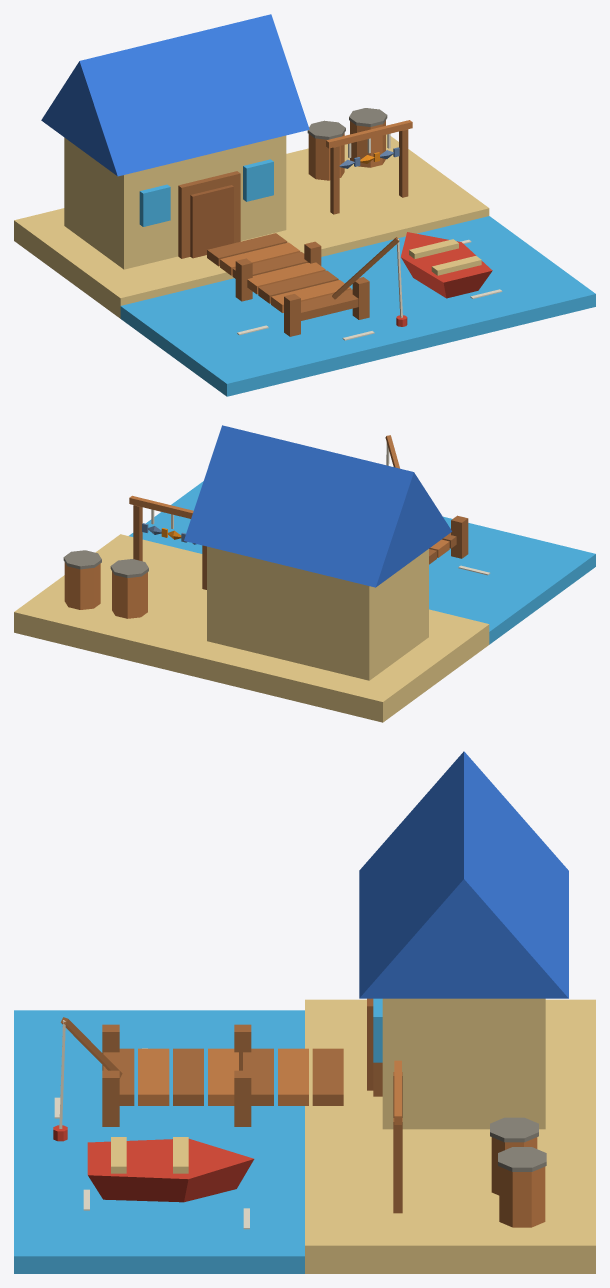
File: fishery_t2_v1.glb
3 renders of one model, top to bottom at view 1: azimuth 30°, elevation 25°; view 2: azimuth 150°, elevation 25°; view 3: azimuth 270°, elevation 25°, orthographic. The views are drawn at different scales.
Visible parts, largest first — view 1: fishery_t2_v1; view 2: fishery_t2_v1; view 3: fishery_t2_v1.
Boxes of the visible parts, <box> form: fishery_t2_v1: <box>14,14,595,396</box>; fishery_t2_v1: <box>14,425,595,722</box>; fishery_t2_v1: <box>14,751,595,1273</box>.
Bounding box in the file's own units: 0.75 × 0.41 × 0.75.
1 material, 1 textured.
